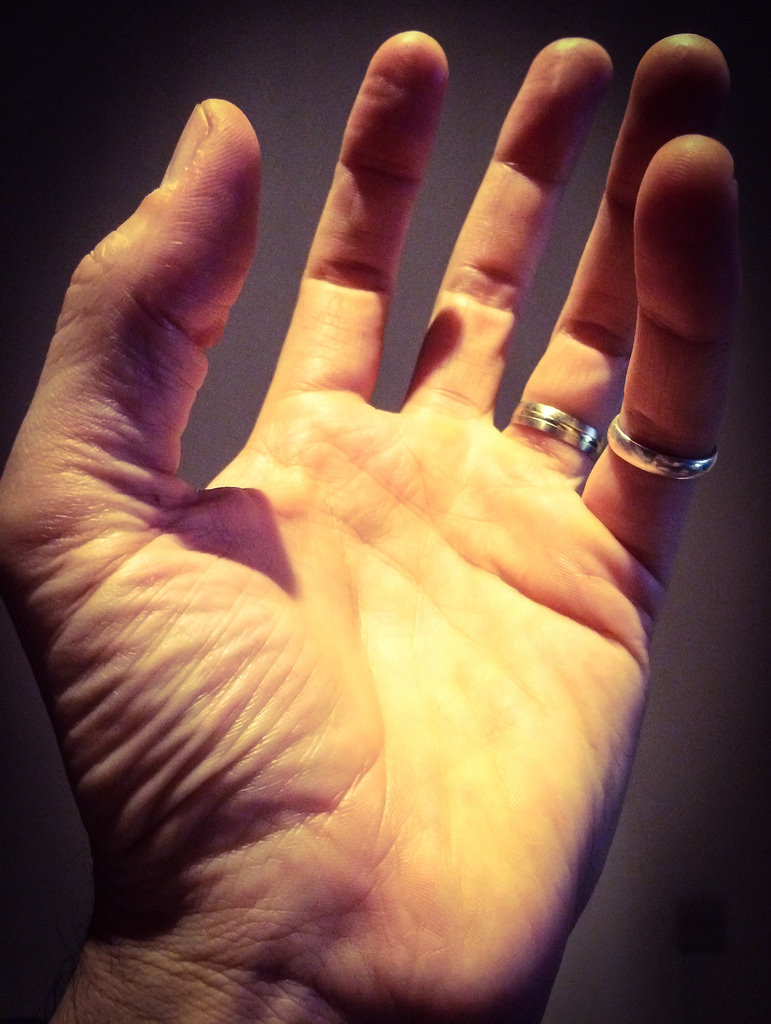hand: (10, 28, 750, 1000)
